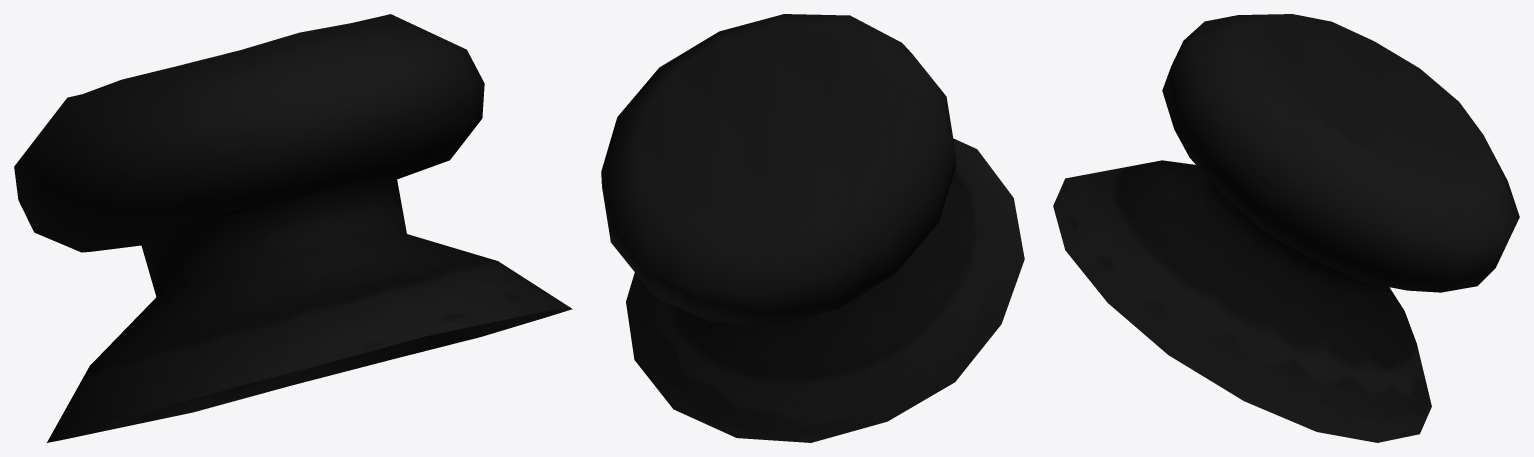
File: YVR_d1_left_joystick.obj
3 views of the same model, side by side, from view 1: azimuth 30°, elevation 25°; view 2: azimuth 150°, elevation 25°; view 3: azimuth 270°, elevation 25° (orthographic). The views are drawn at different scales.
Visible parts, largest first — view 1: Object004; view 2: Object004; view 3: Object004.
Part boxes in pixels (x1,y1,x2,y2): Object004: [14, 14, 572, 442]; Object004: [601, 14, 1024, 442]; Object004: [1053, 14, 1519, 442].
Size of the model in its own units: 0.0145 by 0.0135 by 0.0154.
1 material, 1 textured.
